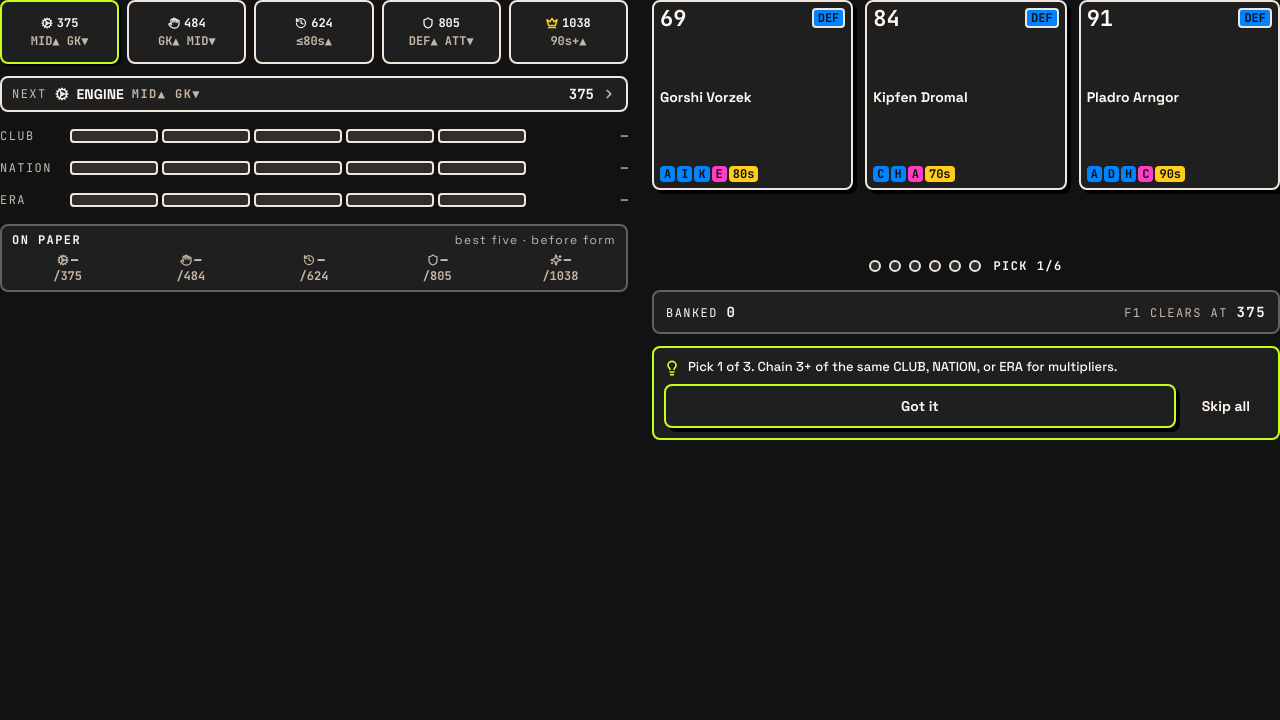
F1 — fixture effect derivation › tapping a chip opens the sheet with plain-language effects (F1b)
The image size is (1280, 720).
Click the button with test id "draw-fixture-chip-0": click(60, 32) [0,0,119,64]
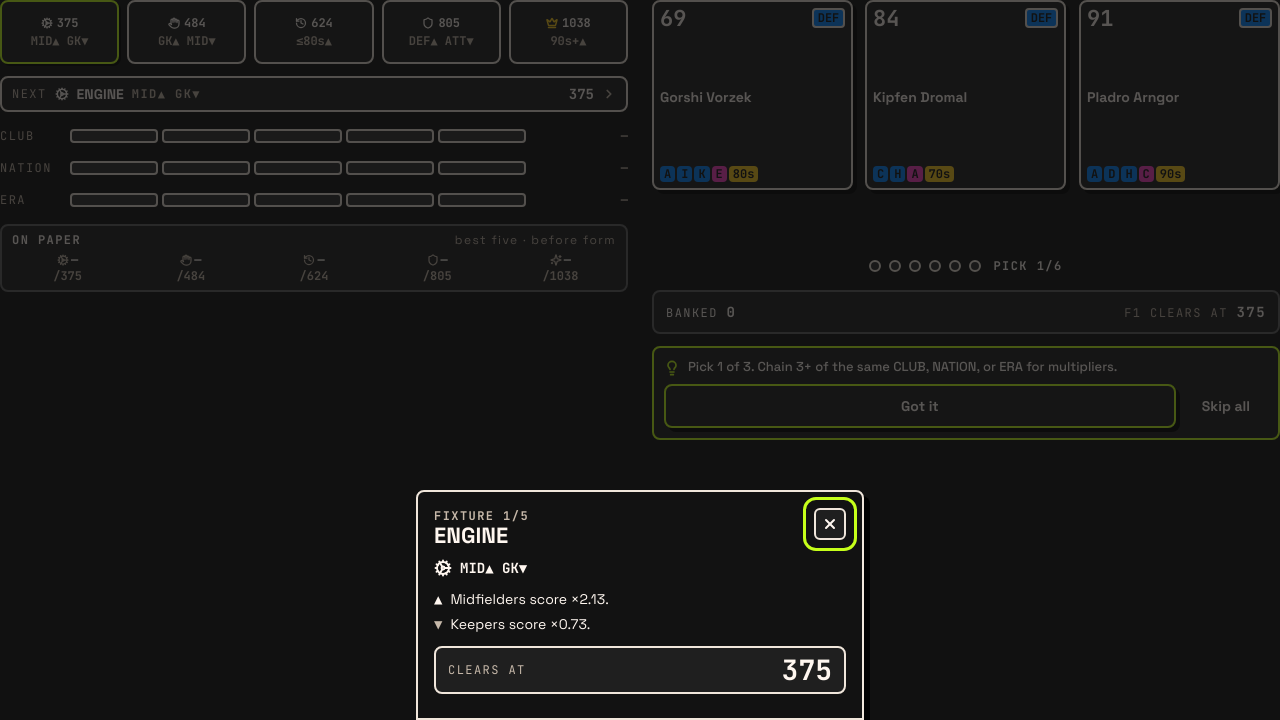
Now the text with test id "draw-fixture-sheet-threshold" reads "375", box [782,651,832,688]
